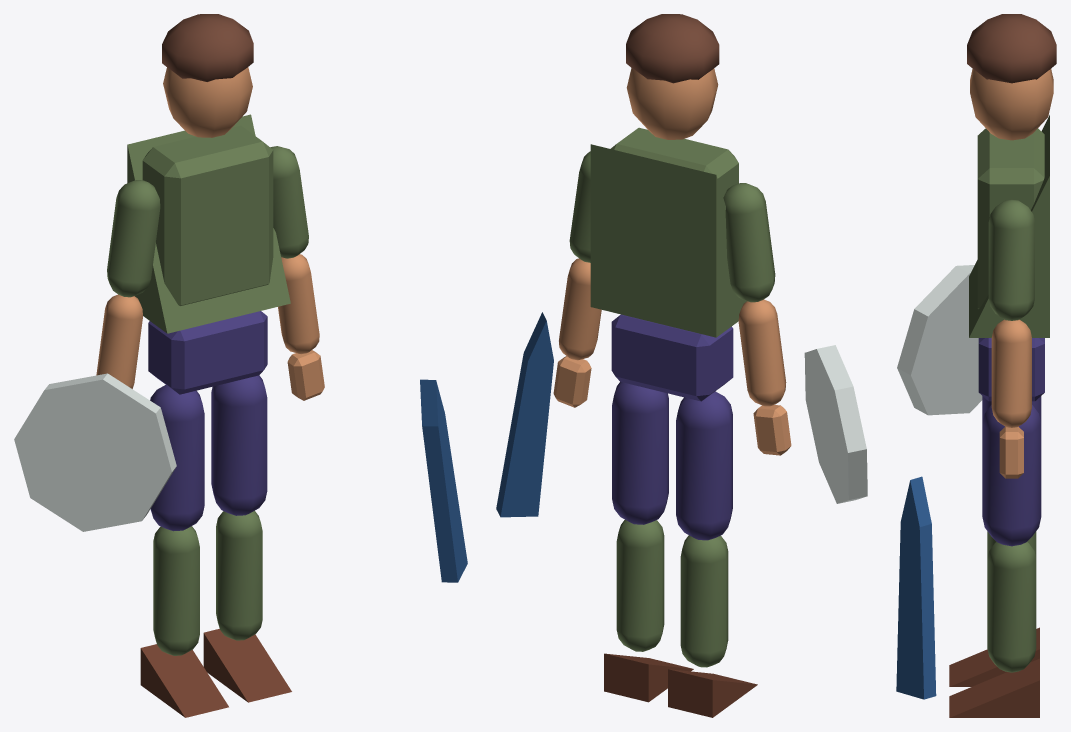
The model's file is adventurer.rustic.glb.
3 views of the same model, side by side, from view 1: azimuth 30°, elevation 25°; view 2: azimuth 150°, elevation 25°; view 3: azimuth 270°, elevation 25° (orthographic).
Visible parts, largest first — view 1: accessory.off-hand, torso, pelvis, thigh.right, tunic, shin.right, shin.left, thigh.left, accessory.main-hand, hair, upper-arm.left, head (+6 smaller); view 2: tunic, pelvis, thigh.left, thigh.right, accessory.off-hand, accessory.main-hand, shin.right, shin.left, hair, upper-arm.left, head, forearm.left (+7 smaller); view 3: accessory.off-hand, accessory.main-hand, thigh.right, shin.right, torso, upper-arm.right, hair, head, tunic, forearm.right, foot.right, pelvis (+2 smaller).
Boxes of the visible parts, x1,y1,x2,y2 form: accessory.off-hand: (14,373,176,531); torso: (142,125,273,305); pelvis: (148,311,267,394); thigh.right: (211,375,267,515); tunic: (127,114,290,333); shin.right: (216,510,262,640); shin.left: (153,526,199,655); thigh.left: (150,385,204,531); accessory.main-hand: (420,379,467,582); hair: (162,14,253,81); upper-arm.left: (107,180,160,297); head: (163,67,252,137); tunic: (590,144,746,337); pelvis: (611,314,733,401); thigh.left: (676,391,732,540); thigh.right: (612,382,668,524); accessory.off-hand: (804,345,867,503); accessory.main-hand: (496,312,553,517); shin.right: (616,520,664,651); shin.left: (680,535,728,667); hair: (626,14,719,83); upper-arm.left: (723,183,775,302); head: (626,68,718,139); forearm.left: (738,299,786,406); accessory.off-hand: (897,265,982,415); accessory.main-hand: (896,476,936,699); thigh.right: (982,405,1041,546); shin.right: (987,542,1036,672); torso: (977,128,1044,308); upper-arm.right: (988,199,1034,320); hair: (967,14,1056,83); head: (970,69,1053,140); tunic: (969,115,1049,337); forearm.right: (991,319,1031,427); foot.right: (949,658,1039,717); pelvis: (978,338,1044,401).
Size of the model in its own units: 1.95 by 3.03 by 0.654.
